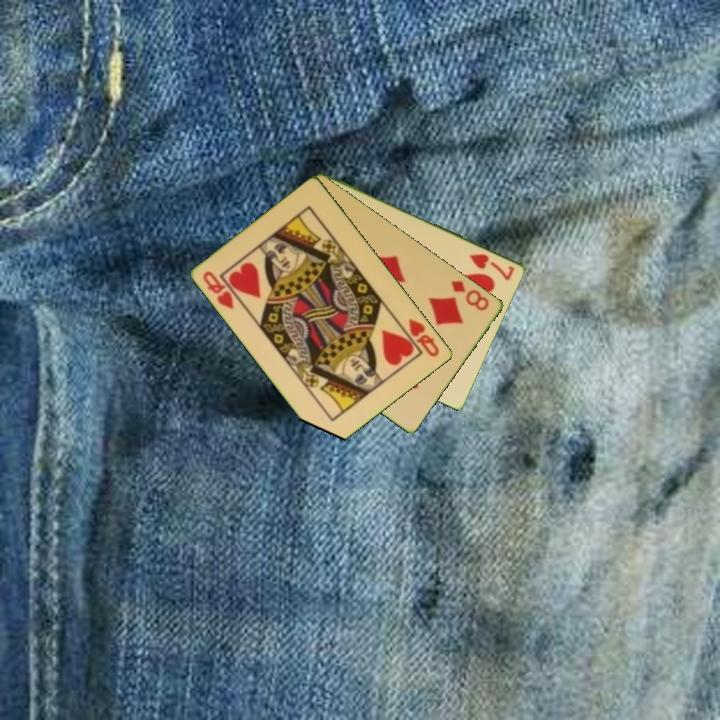7h: (466, 250, 517, 283)
8d: (448, 277, 492, 314)
Qh: (405, 315, 442, 360), (200, 267, 237, 312)
